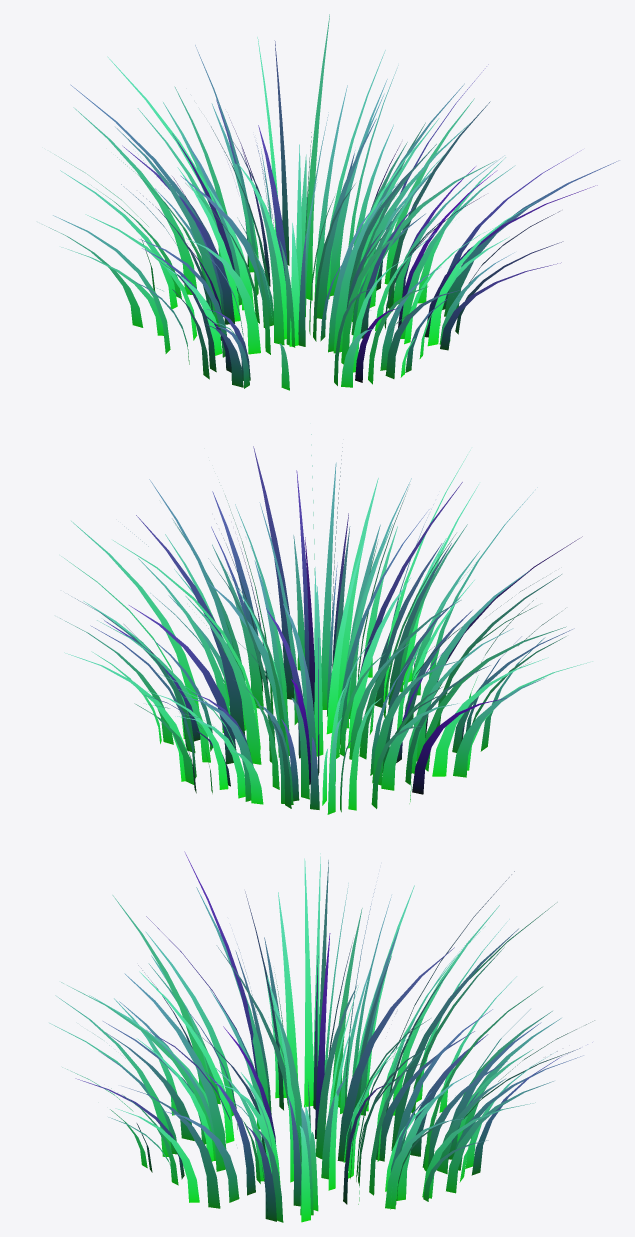
The model's file is GrassTuft.gltf.
3 views of the same model, one above another, from view 1: azimuth 30°, elevation 25°; view 2: azimuth 150°, elevation 25°; view 3: azimuth 270°, elevation 25° (orthographic). The views are drawn at different scales.
Parts seen in each view (by area): view 1: GrassTuft; view 2: GrassTuft; view 3: GrassTuft.
Part boxes in pixels (left/top/right/bottom): GrassTuft: left=42, top=14, right=619, bottom=390; GrassTuft: left=60, top=434, right=592, bottom=814; GrassTuft: left=49, top=851, right=594, bottom=1222.
Size of the model in its own units: 1.15 by 0.5053 by 1.13.
